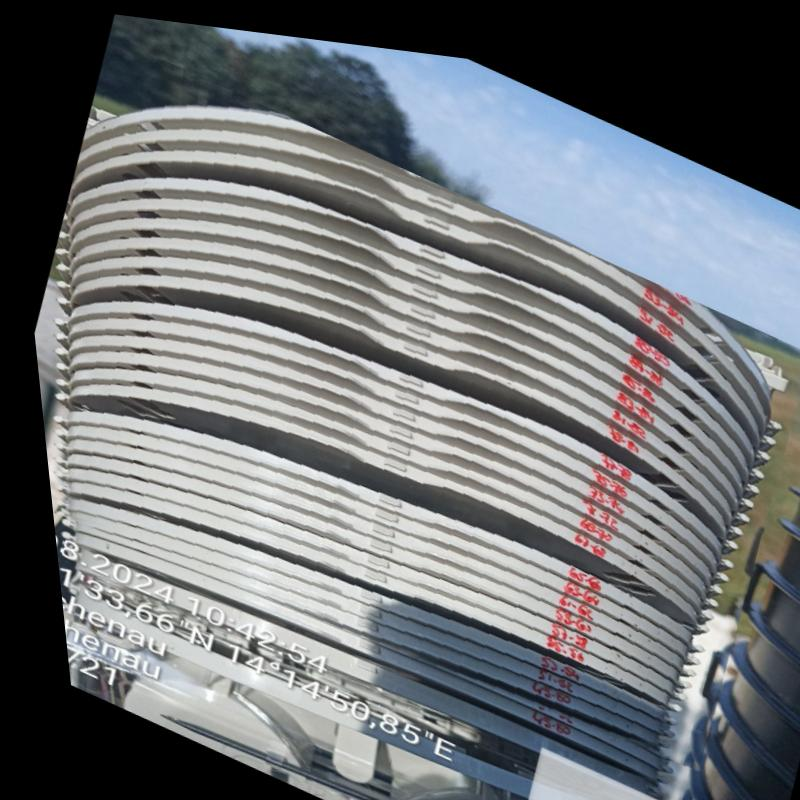NT-Muffen: (40, 100, 794, 751)
